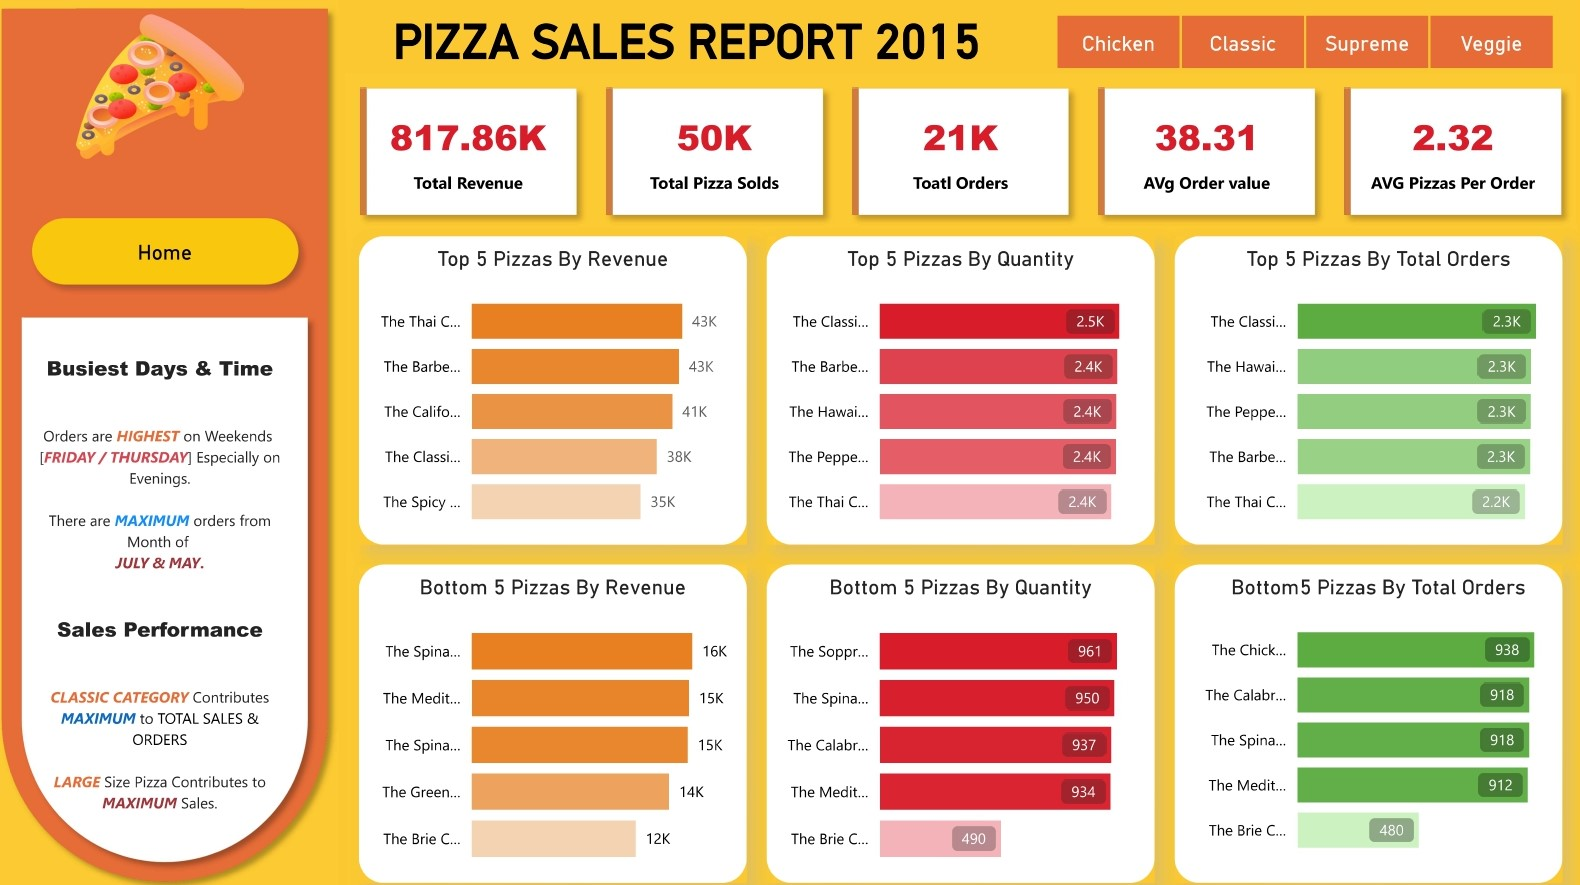

What the dashboard file says about the page in this screenshot:
{"tool":"powerbi","page":{"name":"Best / Worst Sellers","canvas":[1280,720],"ordinal":1},"visuals":[{"type":"shape","box":[0,0,280,720],"z":0},{"type":"image","box":[56,0,160,144],"z":1000},{"type":"cardVisual","fields":{"Data":["pizza_db pizza_sales.TotalRevenue","pizza_db pizza_sales.Total Pizza Solds","pizza_db pizza_sales.Toatl Orders","pizza_db pizza_sales.AVg Order value","pizza_db pizza_sales.AVG Pizzas Per Order"]},"box":[280,56,1000,136],"z":2000},{"type":"shape","box":[296,192,312,248],"z":3000},{"type":"shape","box":[16,248,248,456],"z":4000},{"type":"textbox","box":[32,264,208,408],"z":5000},{"type":"slicer","fields":{"Values":["pizza_db pizza_sales.pizza_category"]},"box":[832,8,448,56],"z":6000},{"type":"textbox","box":[296,8,528,56],"z":7000},{"type":"shape","box":[624,192,312,248],"z":8000},{"type":"shape","box":[952,192,312,248],"z":9000},{"type":"shape","box":[296,456,312,256],"z":10000},{"type":"shape","box":[624,456,312,256],"z":11000},{"type":"shape","box":[952,456,312,256],"z":12000},{"type":"barChart","title":"Top 5 Pizzas By Revenue","fields":{"Category":["pizza_db pizza_sales.pizza_name"],"Y":["pizza_db pizza_sales.TotalRevenue"]},"box":[296,200,312,240],"z":13000},{"type":"pageNavigator","box":[24,168,232,72],"z":14000},{"type":"barChart","title":"Bottom 5 Pizzas By Revenue","fields":{"Category":["pizza_db pizza_sales.pizza_name"],"Y":["pizza_db pizza_sales.TotalRevenue"]},"box":[296,464,312,248],"z":15000},{"type":"barChart","title":"Top 5 Pizzas By Quantity","fields":{"Category":["pizza_db pizza_sales.pizza_name"],"Y":["pizza_db pizza_sales.Total Pizza Solds"]},"box":[624,200,312,240],"z":16000},{"type":"barChart","title":"Bottom 5 Pizzas By Quantity","fields":{"Category":["pizza_db pizza_sales.pizza_name"],"Y":["pizza_db pizza_sales.Total Pizza Solds"]},"box":[624,464,312,248],"z":17000},{"type":"barChart","title":"Top 5 Pizzas By Total Orders","fields":{"Category":["pizza_db pizza_sales.pizza_name"],"Y":["pizza_db pizza_sales.Toatl Orders"]},"box":[960,200,312,240],"z":18000},{"type":"barChart","title":"Bottom5 Pizzas By Total Orders","fields":{"Category":["pizza_db pizza_sales.pizza_name"],"Y":["pizza_db pizza_sales.Toatl Orders"]},"box":[960,464,312,240],"z":19000}]}

Visuals, with their boxes in screenshot pixels (x1, y1, x2, y2), scaled from the page's 1280x720 canvas onto the 1580x885 screenshot:
shape: <region>0, 0, 346, 884</region>
image: <region>69, 0, 267, 177</region>
cardVisual - pizza_db pizza_sales.TotalRevenue x pizza_db pizza_sales.Total Pizza Solds: <region>346, 69, 1579, 236</region>
shape: <region>365, 236, 750, 541</region>
shape: <region>20, 305, 326, 865</region>
textbox: <region>40, 324, 296, 826</region>
slicer - pizza_db pizza_sales.pizza_category: <region>1027, 10, 1579, 79</region>
textbox: <region>365, 10, 1017, 79</region>
shape: <region>770, 236, 1155, 541</region>
shape: <region>1175, 236, 1560, 541</region>
shape: <region>365, 560, 750, 875</region>
shape: <region>770, 560, 1155, 875</region>
shape: <region>1175, 560, 1560, 875</region>
"Top 5 Pizzas By Revenue" barChart: <region>365, 246, 750, 541</region>
pageNavigator: <region>30, 206, 316, 295</region>
"Bottom 5 Pizzas By Revenue" barChart: <region>365, 570, 750, 875</region>
"Top 5 Pizzas By Quantity" barChart: <region>770, 246, 1155, 541</region>
"Bottom 5 Pizzas By Quantity" barChart: <region>770, 570, 1155, 875</region>
"Top 5 Pizzas By Total Orders" barChart: <region>1185, 246, 1570, 541</region>
"Bottom5 Pizzas By Total Orders" barChart: <region>1185, 570, 1570, 865</region>
